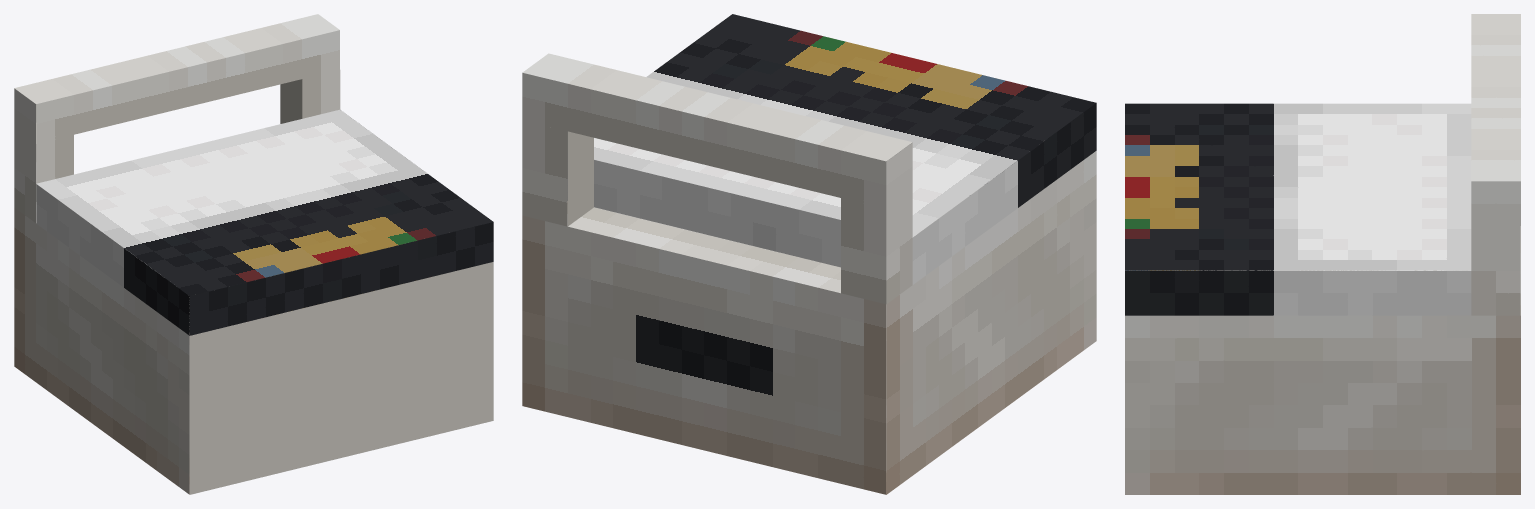
File: _Black Strongbed Head.glb
The picture shows the model from 3 angles, left to right: view 1: azimuth 30°, elevation 25°; view 2: azimuth 150°, elevation 25°; view 3: azimuth 270°, elevation 25°; orthographic projection. The views are drawn at different scales.
Parts seen in each view (by area): view 1: --- Strongbed Head; view 2: --- Strongbed Head; view 3: --- Strongbed Head.
Part boxes in pixels (x1,y1,x2,y2): --- Strongbed Head: (14, 14, 493, 494); --- Strongbed Head: (522, 14, 1096, 494); --- Strongbed Head: (1125, 14, 1520, 494).
Bounding box in the file's own units: 1.6 × 1.4 × 1.6.
Materials: 1 (1 with a texture image).
